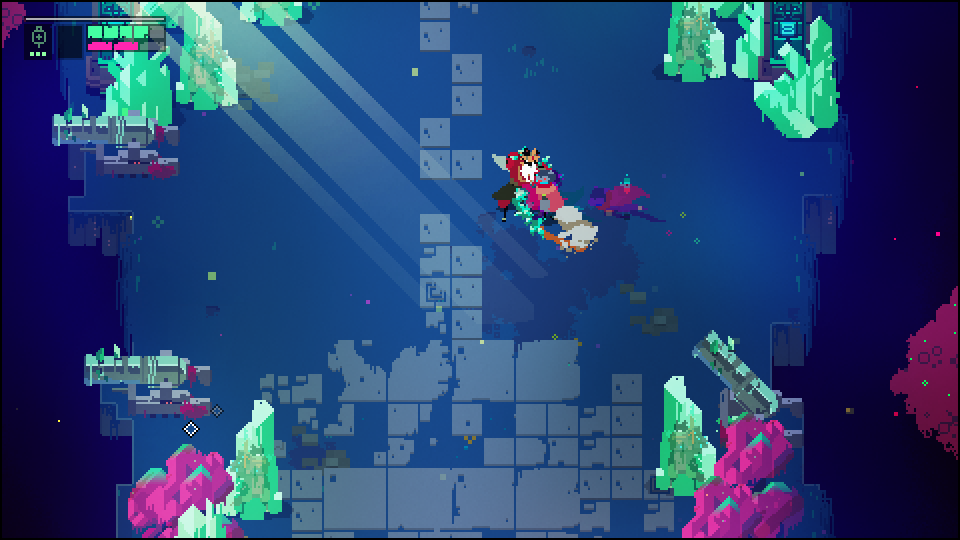hanged_man: (489, 148, 576, 260)
